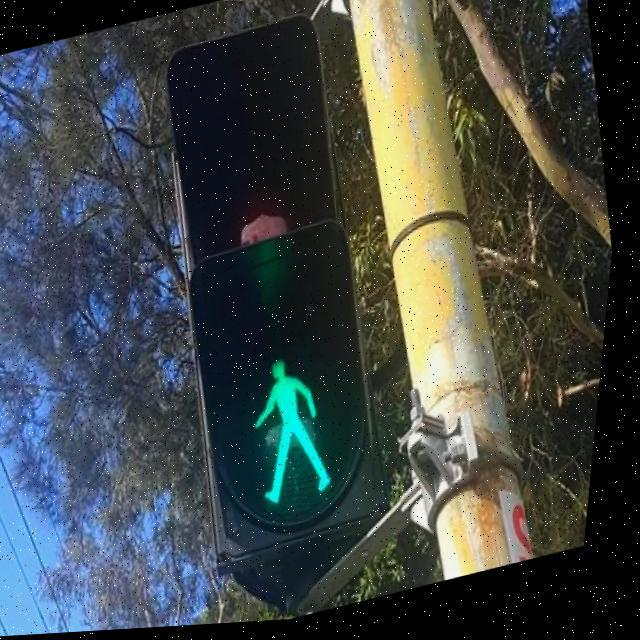green_light: (230, 336, 376, 532)
